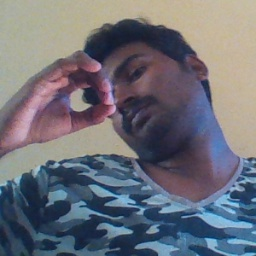O: (15, 44, 123, 153)
